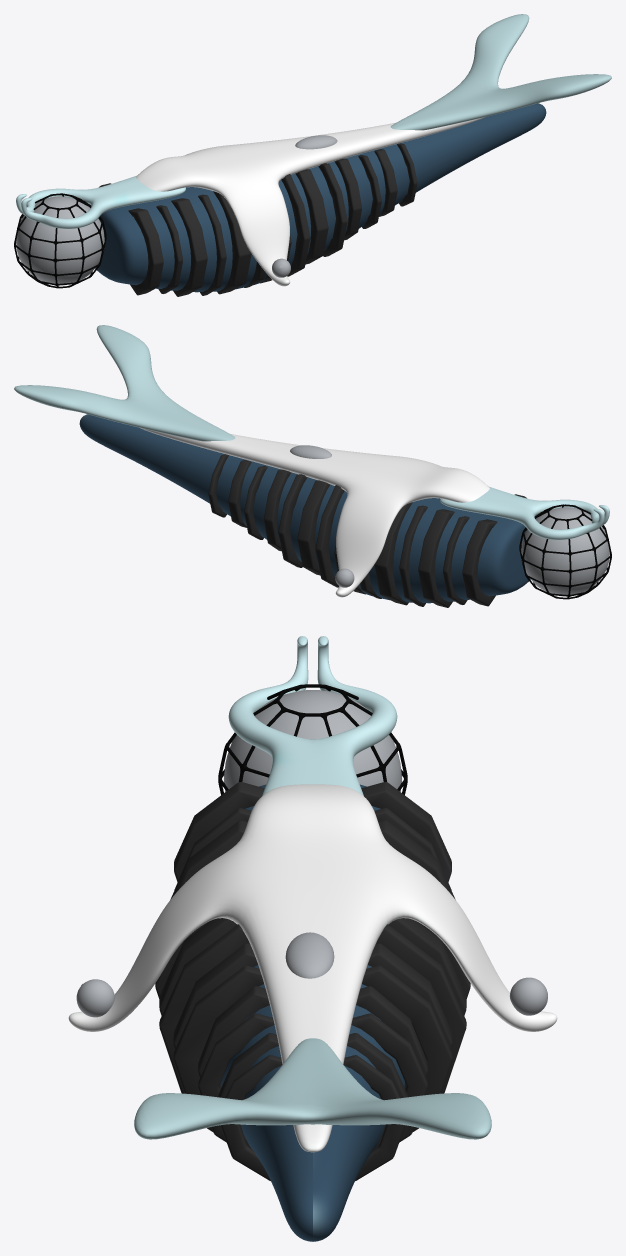
The model's file is Batyskaf.fbx.
The picture shows the model from 3 angles, top to bottom: view 1: azimuth 30°, elevation 25°; view 2: azimuth 150°, elevation 25°; view 3: azimuth 270°, elevation 25°; orthographic projection. The views are drawn at different scales.
Visible parts, largest first — view 1: Body.001; view 2: Body.001; view 3: Body.001.
Boxes of the visible parts, x1,y1,x2,y2 form: Body.001: [14, 14, 611, 296]; Body.001: [14, 325, 611, 607]; Body.001: [68, 636, 557, 1241].
Size of the model in its own units: 361 by 941 by 253.
